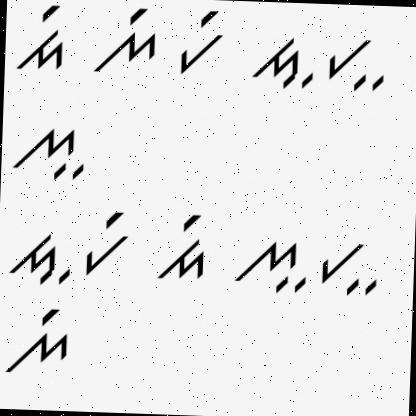dah: (247, 25, 316, 96), (5, 224, 74, 288)
dang: (157, 209, 215, 286), (16, 1, 68, 74)
nah: (230, 234, 309, 299), (5, 124, 87, 186)
nang: (2, 304, 72, 384), (89, 5, 162, 76)
pah: (316, 236, 384, 298), (327, 30, 391, 92)
pang: (172, 8, 226, 80), (82, 207, 131, 276)
